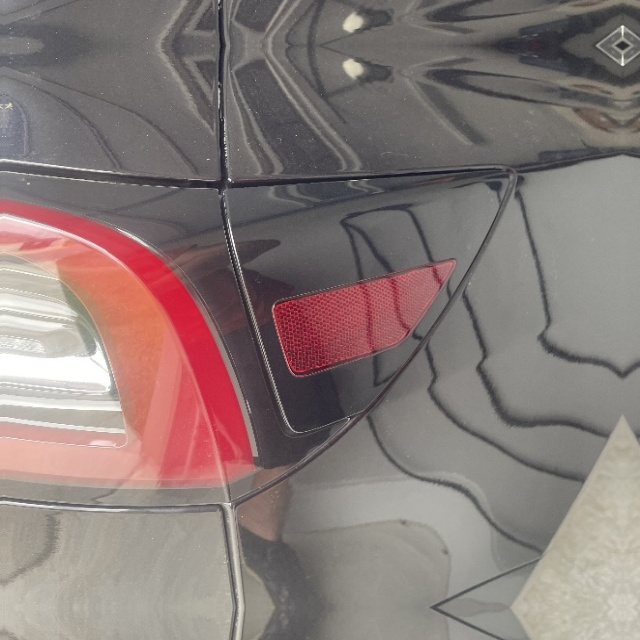reflector: (271, 258, 458, 376)
